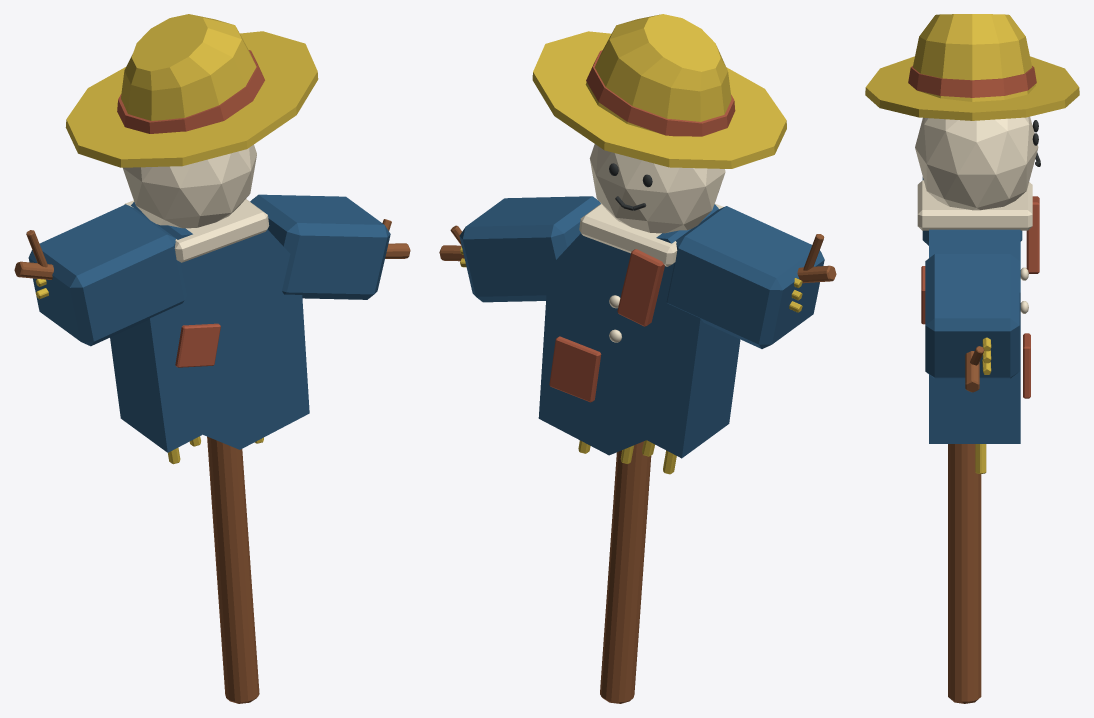
File: GardenScarecrow.glb
3 views of the same model, side by side, from view 1: azimuth 30°, elevation 25°; view 2: azimuth 150°, elevation 25°; view 3: azimuth 270°, elevation 25° (orthographic). The views are drawn at different scales.
Parts seen in each view (by area): view 1: GardenScarecrow_Shirt, GardenScarecrow_Straw, GardenScarecrow_Timber, GardenScarecrow_Linen, GardenScarecrow_Patch; view 2: GardenScarecrow_Shirt, GardenScarecrow_Straw, GardenScarecrow_Linen, GardenScarecrow_Timber, GardenScarecrow_Patch; view 3: GardenScarecrow_Shirt, GardenScarecrow_Straw, GardenScarecrow_Linen, GardenScarecrow_Timber, GardenScarecrow_Patch.
Part boxes in pixels (box(x1,y1,x2,y2)): GardenScarecrow_Shirt: box(28, 194, 390, 452); GardenScarecrow_Straw: box(35, 14, 318, 464); GardenScarecrow_Timber: box(14, 219, 410, 703); GardenScarecrow_Linen: box(123, 144, 269, 262); GardenScarecrow_Patch: box(117, 50, 264, 367); GardenScarecrow_Shirt: box(459, 196, 824, 458); GardenScarecrow_Straw: box(460, 14, 802, 474); GardenScarecrow_Linen: box(579, 144, 725, 342); GardenScarecrow_Timber: box(439, 225, 836, 703); GardenScarecrow_Patch: box(549, 50, 735, 402); GardenScarecrow_Shirt: box(922, 177, 1022, 443); GardenScarecrow_Straw: box(865, 14, 1079, 474); GardenScarecrow_Linen: box(915, 116, 1038, 313); GardenScarecrow_Timber: box(948, 346, 984, 703); GardenScarecrow_Patch: box(908, 66, 1039, 398).
Size of the model in its own units: 0.8395 by 1.41 by 0.41.
